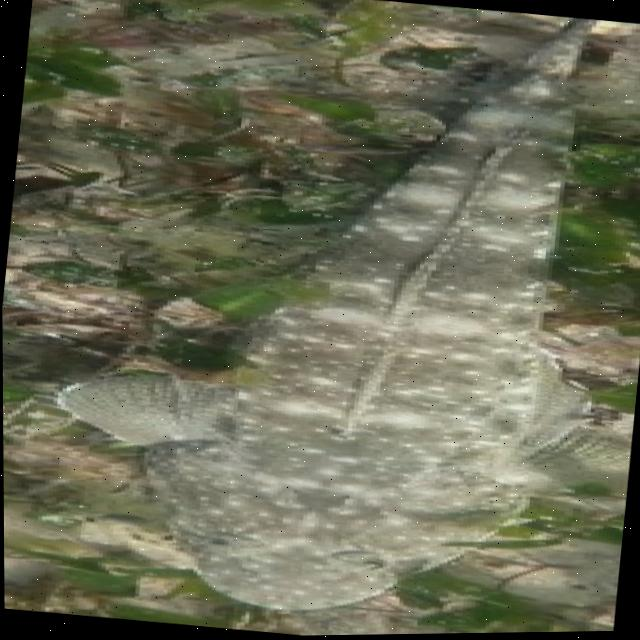Flathead: (10, 0, 640, 640)
